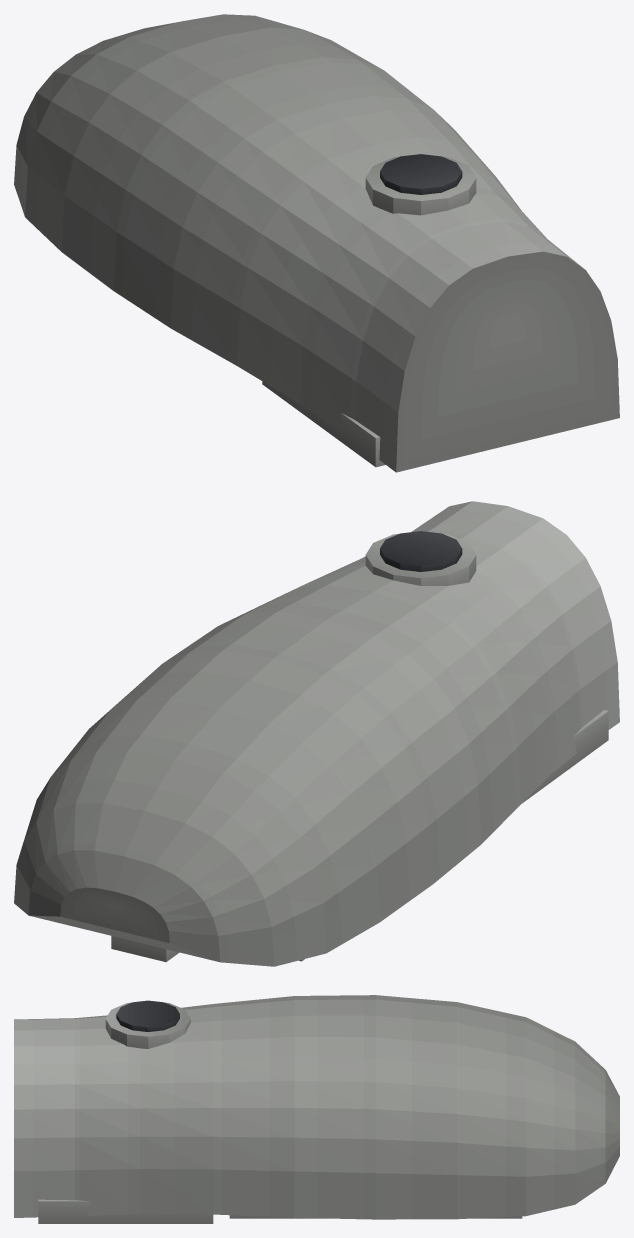
The model's file is streetlight_gem400acunp.obj.
3 renders of one model, top to bottom at view 1: azimuth 30°, elevation 25°; view 2: azimuth 150°, elevation 25°; view 3: azimuth 270°, elevation 25°, orthographic. The views are drawn at different scales.
Visible parts, largest first — view 1: fixture; view 2: fixture; view 3: fixture.
Part boxes in pixels (bbox=[...]): fixture: bbox=[14, 14, 619, 472]; fixture: bbox=[14, 501, 619, 966]; fixture: bbox=[14, 995, 619, 1223].
Size of the model in its own units: 0.4375 by 0.2817 by 0.9312.
